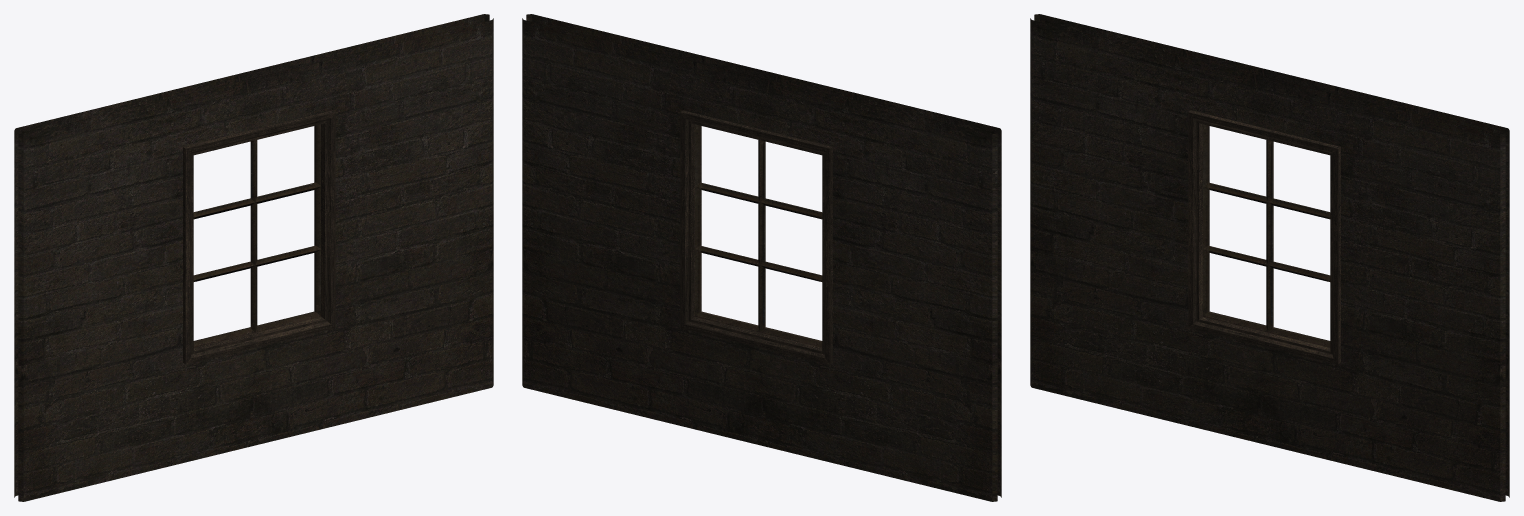
File: window_1_single_no_glass.glb
3 views of the same model, side by side, from view 1: azimuth 30°, elevation 25°; view 2: azimuth 150°, elevation 25°; view 3: azimuth 330°, elevation 25° (orthographic).
Visible parts, largest first — view 1: window_1_single_no_glass; view 2: window_1_single_no_glass; view 3: window_1_single_no_glass.
Boxes of the visible parts, x1,y1,x2,y2 form: window_1_single_no_glass: (14, 14, 493, 501); window_1_single_no_glass: (522, 14, 1001, 501); window_1_single_no_glass: (1030, 14, 1509, 501).
Size of the model in its own units: 4.06 by 3 by 0.2.
Materials: 3 (3 with a texture image).
